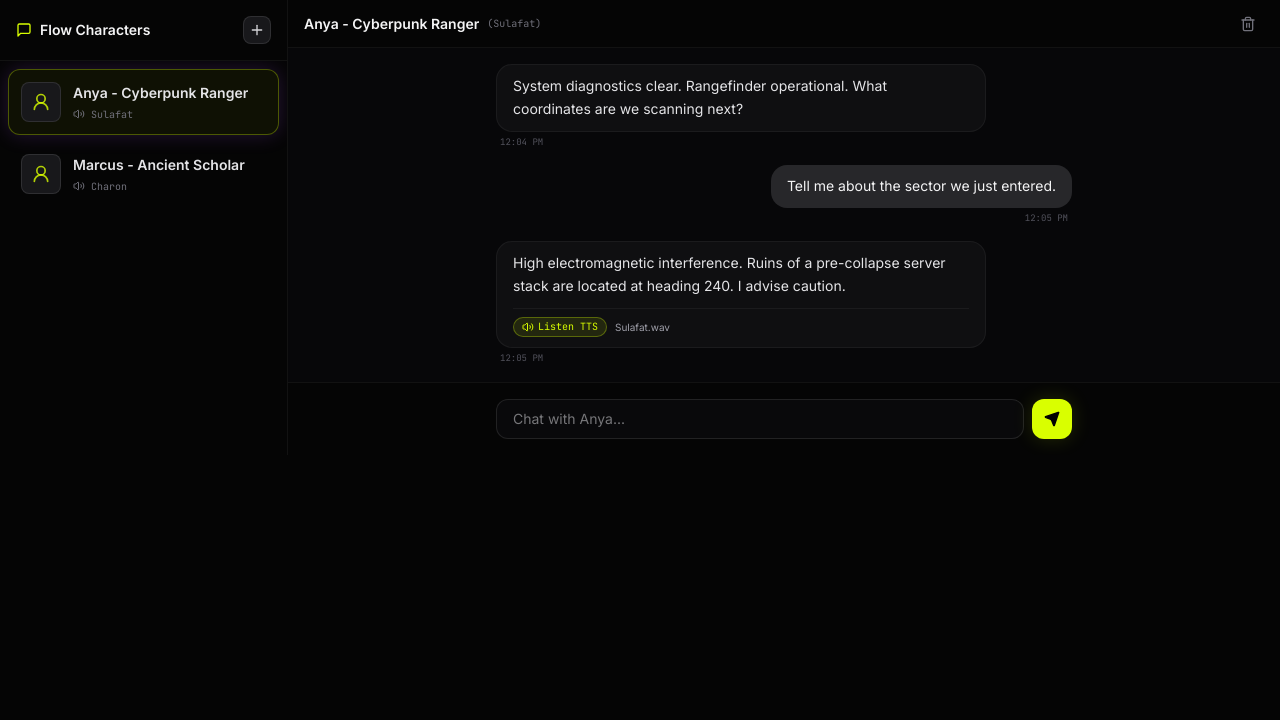
it: ChatPanel › should send a user message and receive simulated character reply
The width and height of the screenshot is (1280, 720).
Check: the text "Anya - Cyberpunk Ranger" below "Flow Characters" is shown, box [73,84,248,100]
In the field with placeholder "Chat with Anya...": coordinates (760, 418) [496,398,1024,438], type "Hello Anya"
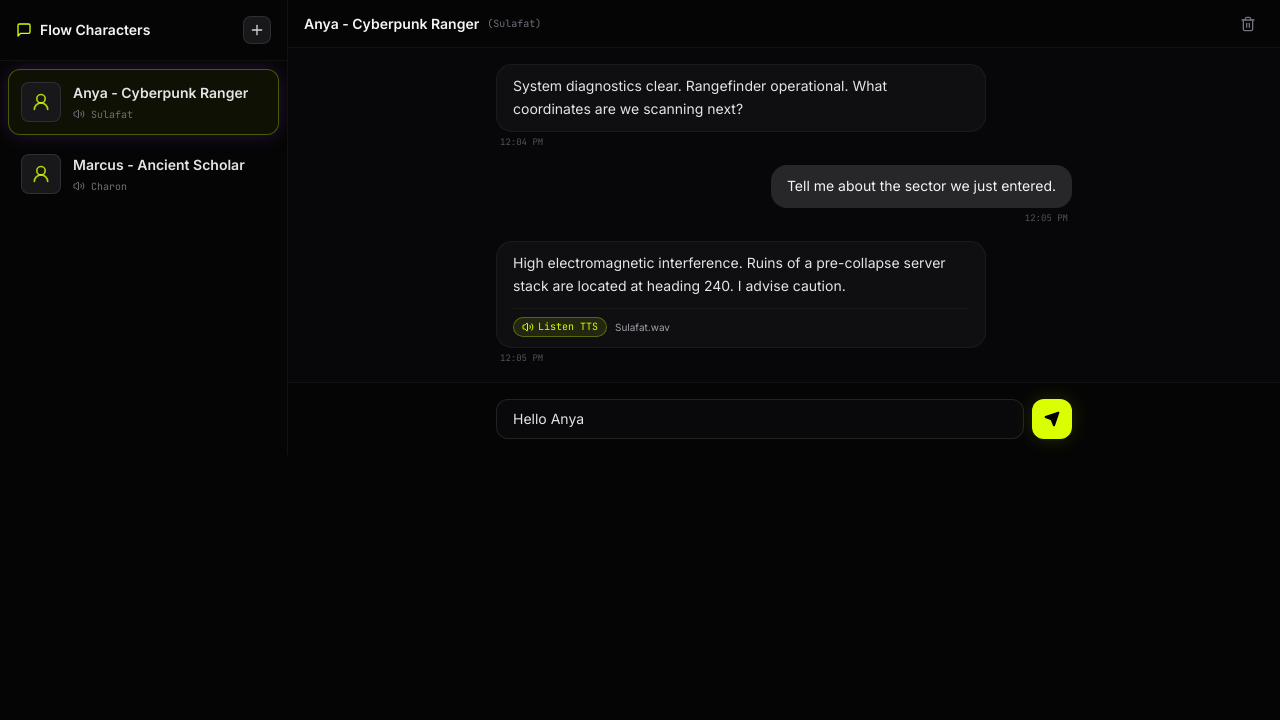
Click the 6th button: coordinates (1052, 418) [1032,398,1072,438]
Wait 1000 ms
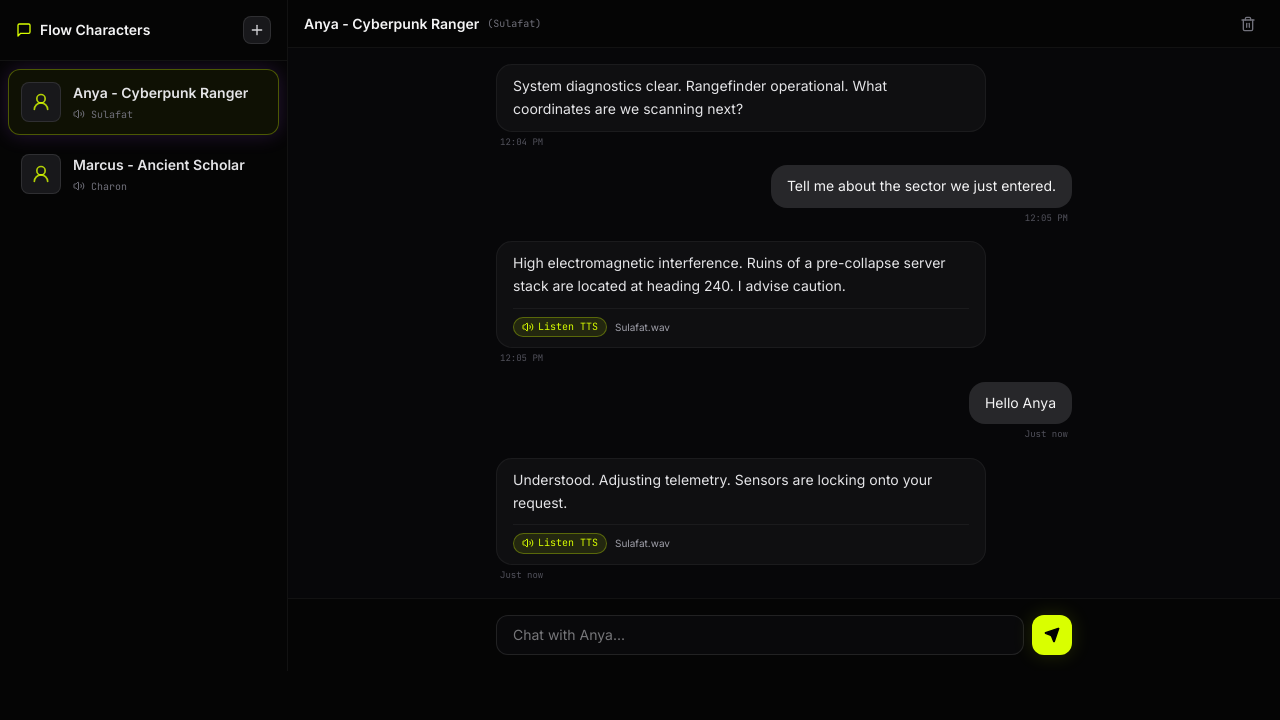
Check: the text "Hello Anya" is shown, box [985,392,1056,414]
Check: the text "Understood. Adjusting telemetry. Sensors are locking onto your request." is shown, box [513,469,969,514]
